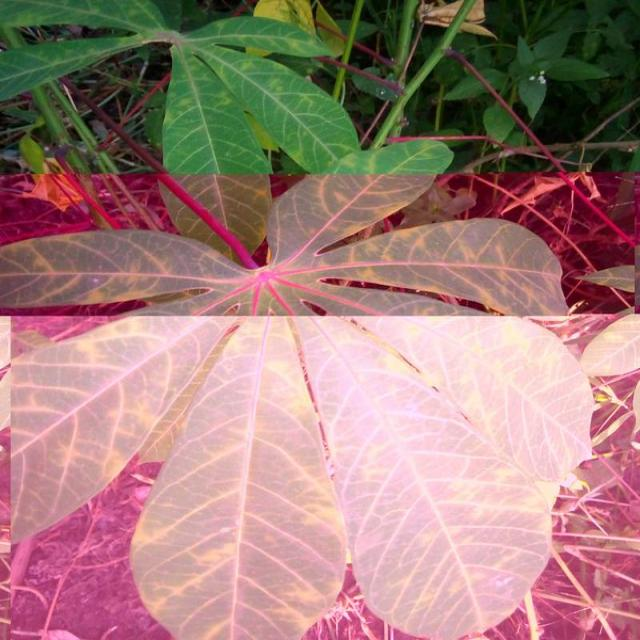cassava leaf: (8, 309, 594, 638), (128, 315, 348, 638)
